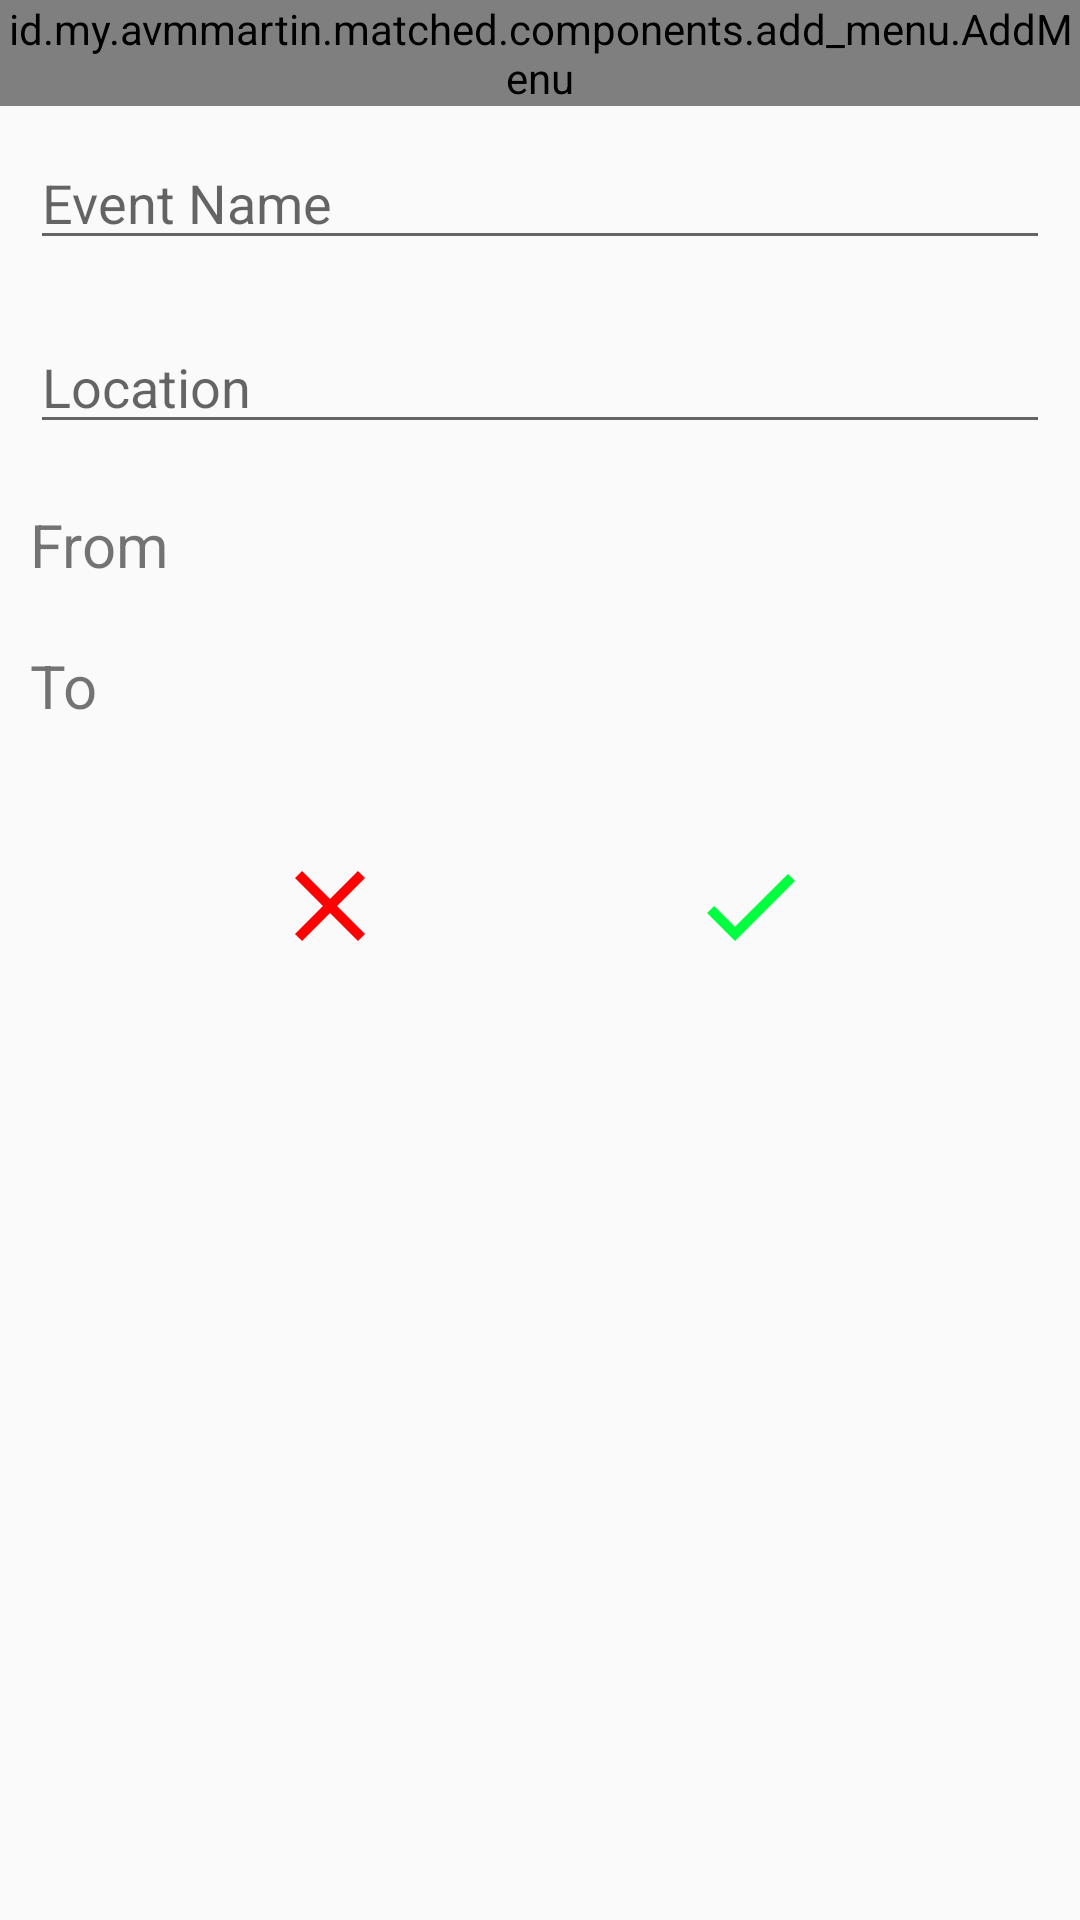

Where icons sit on this 1080px×1920px app screen, as BBox(x1, y1, x2, y2):
cancel: BBox(295, 871, 365, 941)
check: BBox(707, 874, 795, 941)
